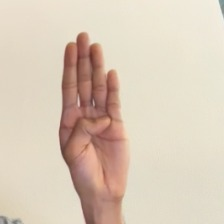B: (47, 22, 151, 220)
